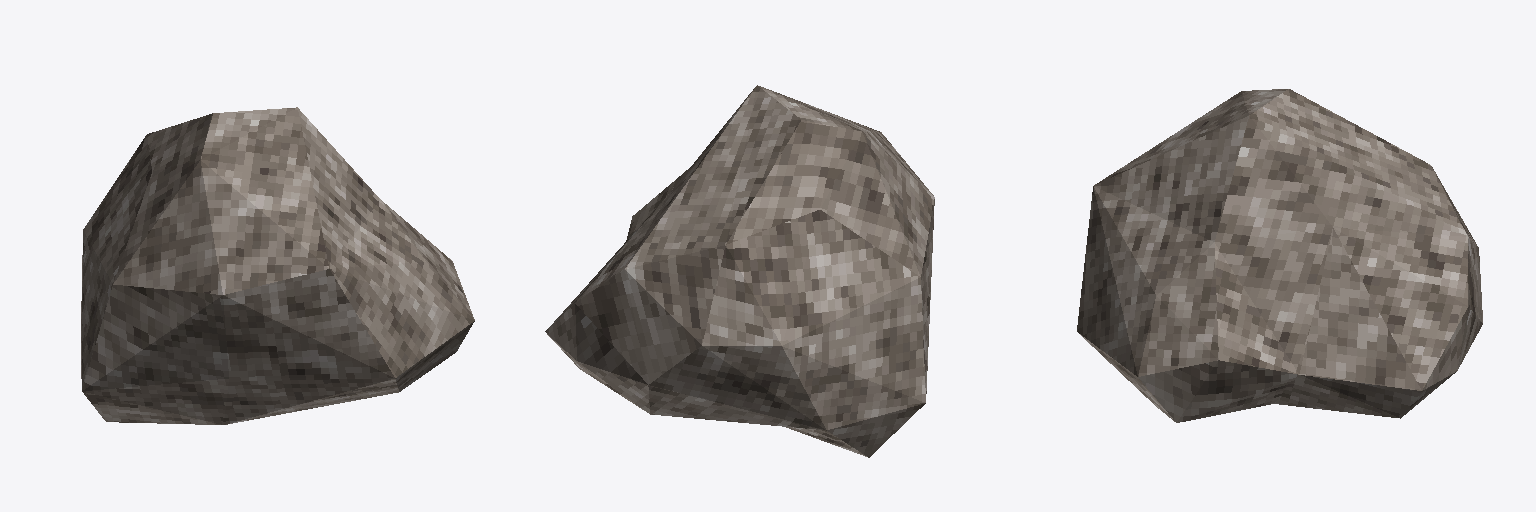
The picture shows the model from 3 angles: view 1: azimuth 30°, elevation 25°; view 2: azimuth 150°, elevation 25°; view 3: azimuth 270°, elevation 25°; orthographic projection.
Parts seen in each view (by area): view 1: mboulderreg_0; view 2: mboulderreg_0; view 3: mboulderreg_0.
Part boxes in pixels (left/top/right/bottom): mboulderreg_0: left=81, top=107, right=474, bottom=424; mboulderreg_0: left=545, top=85, right=934, bottom=457; mboulderreg_0: left=1077, top=89, right=1482, bottom=422.
Bounding box in the file's own units: 1.68 × 1.48 × 1.78.
Materials: 1 (1 with a texture image).